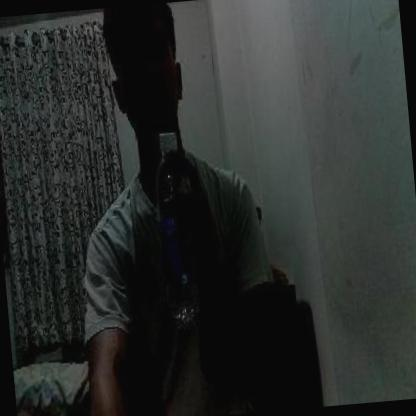plastic_bottles: (152, 129, 201, 329)
